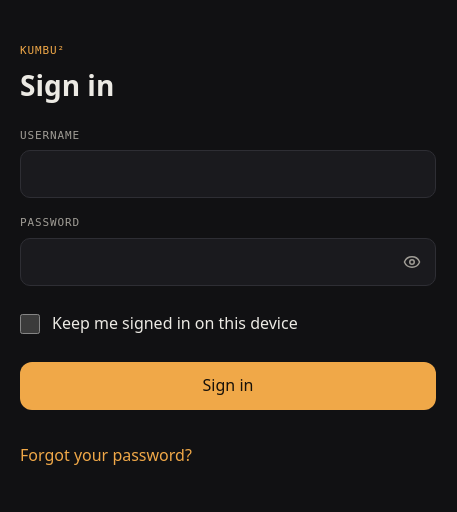
Test: a session that ends mid-use › shows the server's sentence when sign-in fails
In the field labelled "Username": (228, 174) [20,150,436,198], type "ada"
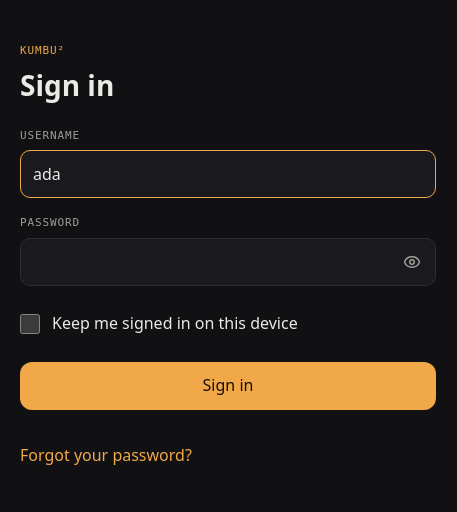
In the password field labelled "Password": (228, 262) [20,238,436,286], type "correct horse battery"
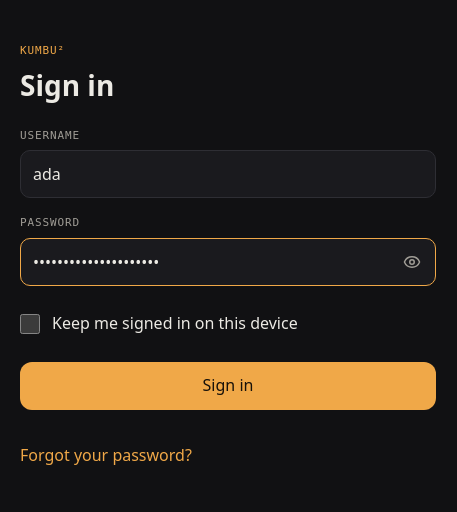
Click the button "Sign in": click(228, 386) [20,362,436,410]
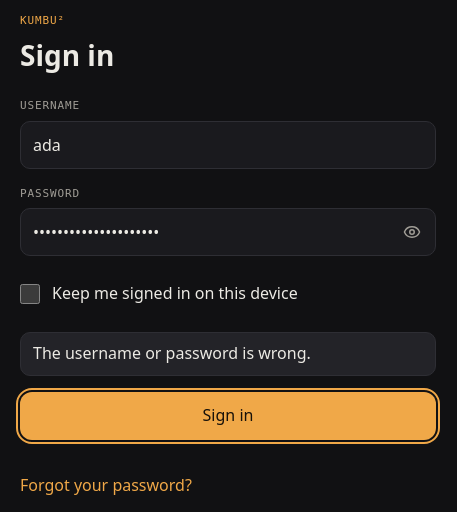
Expected: the message reads "The username or password is wrong.", [33,342,311,364]
